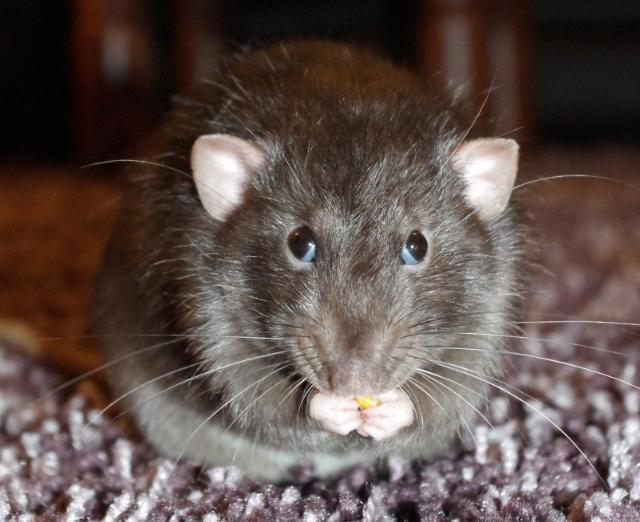rat: (66, 21, 566, 495)
